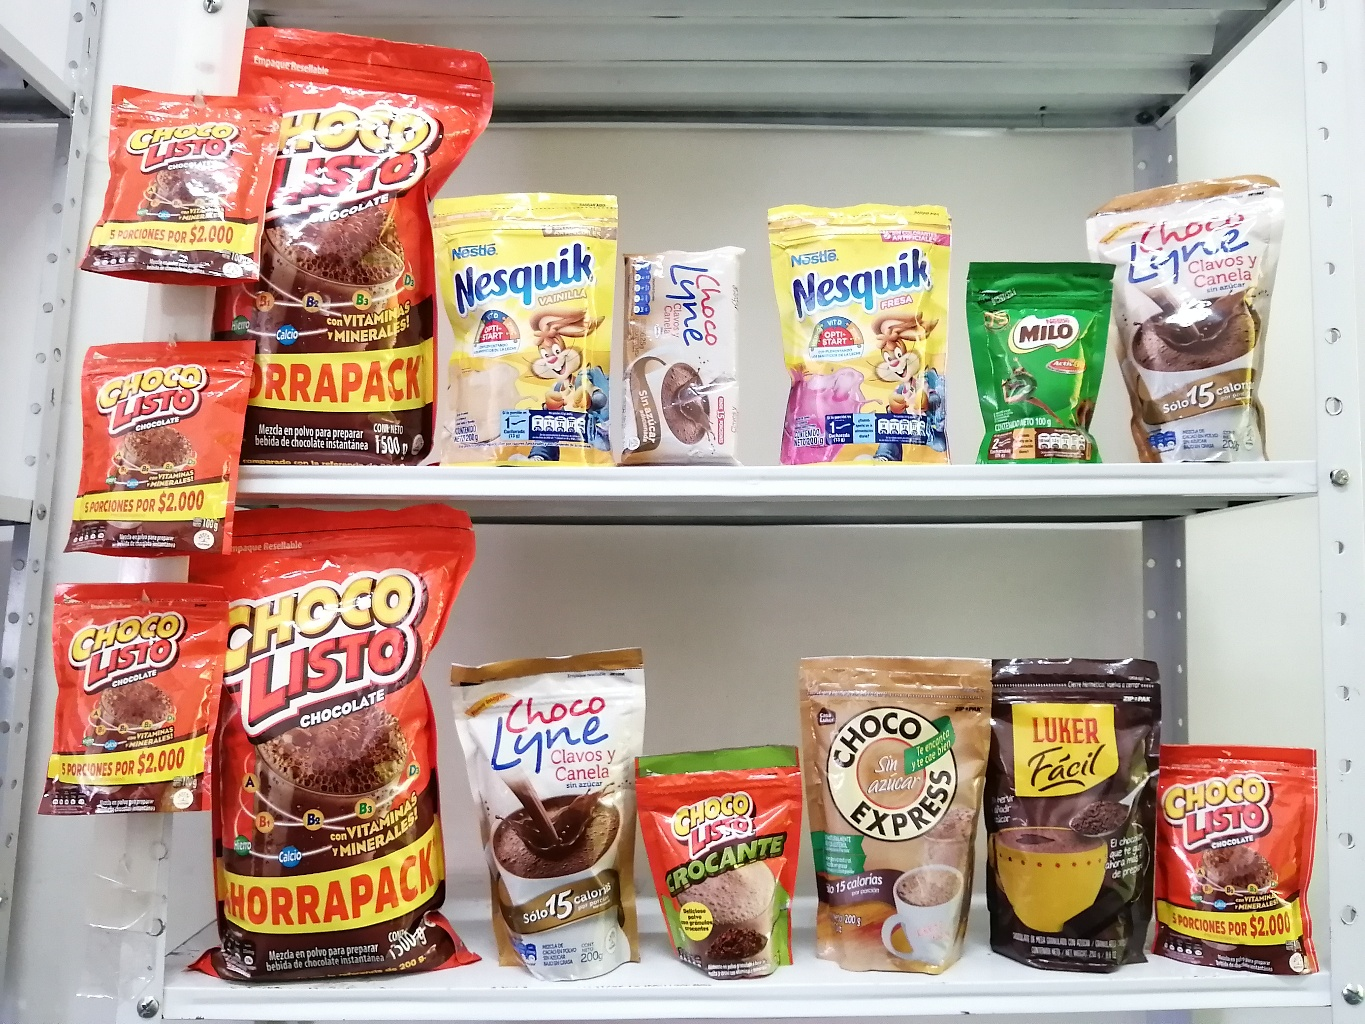COL0170102DYP10000: (625, 738, 819, 989)
COL0170103DYP1,500: (210, 5, 495, 456)
COL0170103DYP10000: (1163, 728, 1328, 975)
COL0170203DYP10000: (965, 257, 1111, 465)
COL0170305DYP20000: (766, 184, 957, 463)
COL0170306DYP20000: (431, 189, 614, 466)
